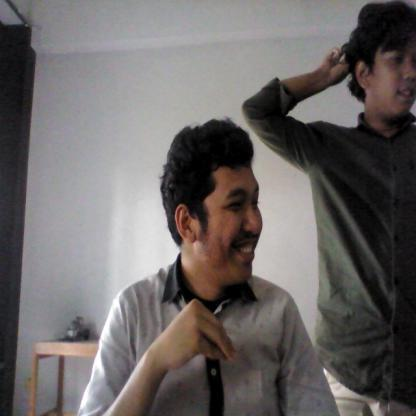Malam: (145, 296, 244, 384)
